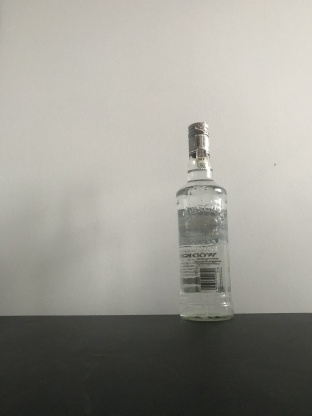nakretka: (186, 119, 211, 158)
